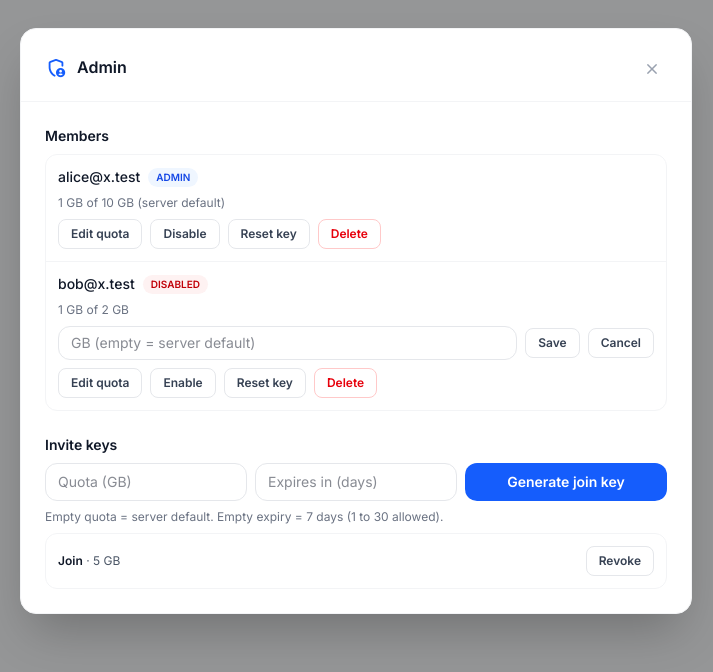
Test: AdminDialogComponent › blocks Save on unparsable quota text instead of clearing the quota
Clear the number field named "quota". click: (288, 343)
box: [58,326,517,360]
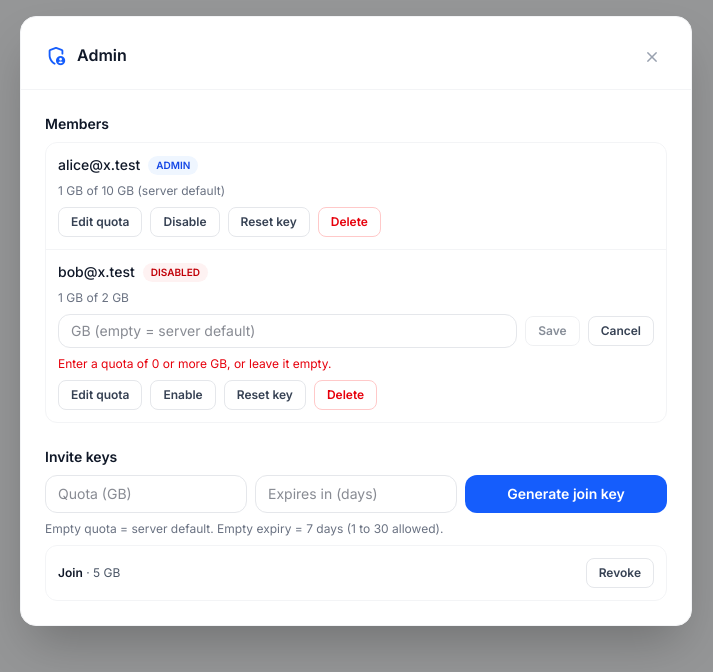
expect the text "Enter a quota of 0 or more GB, or leave it empty." is shown: met, box [58,356,331,371]
expect the submit button is disabled: met, box [525,316,580,346]
